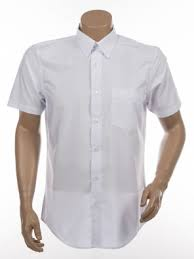C_shirt: (7, 27, 181, 246)
